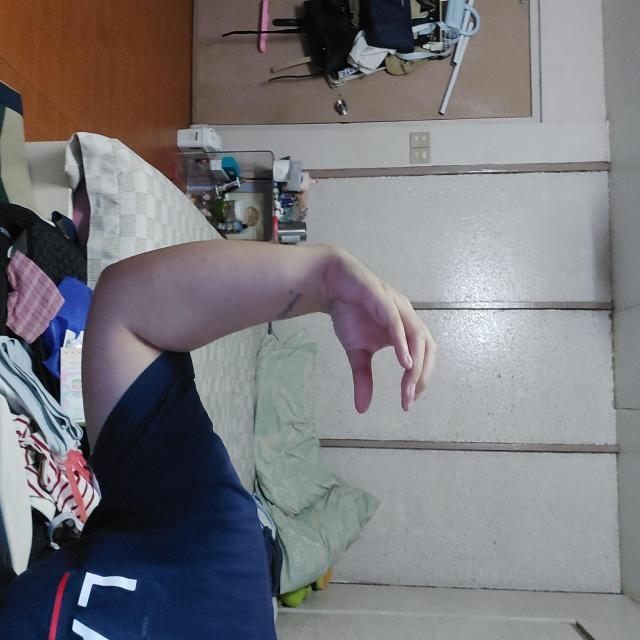C: (249, 203, 414, 316)
